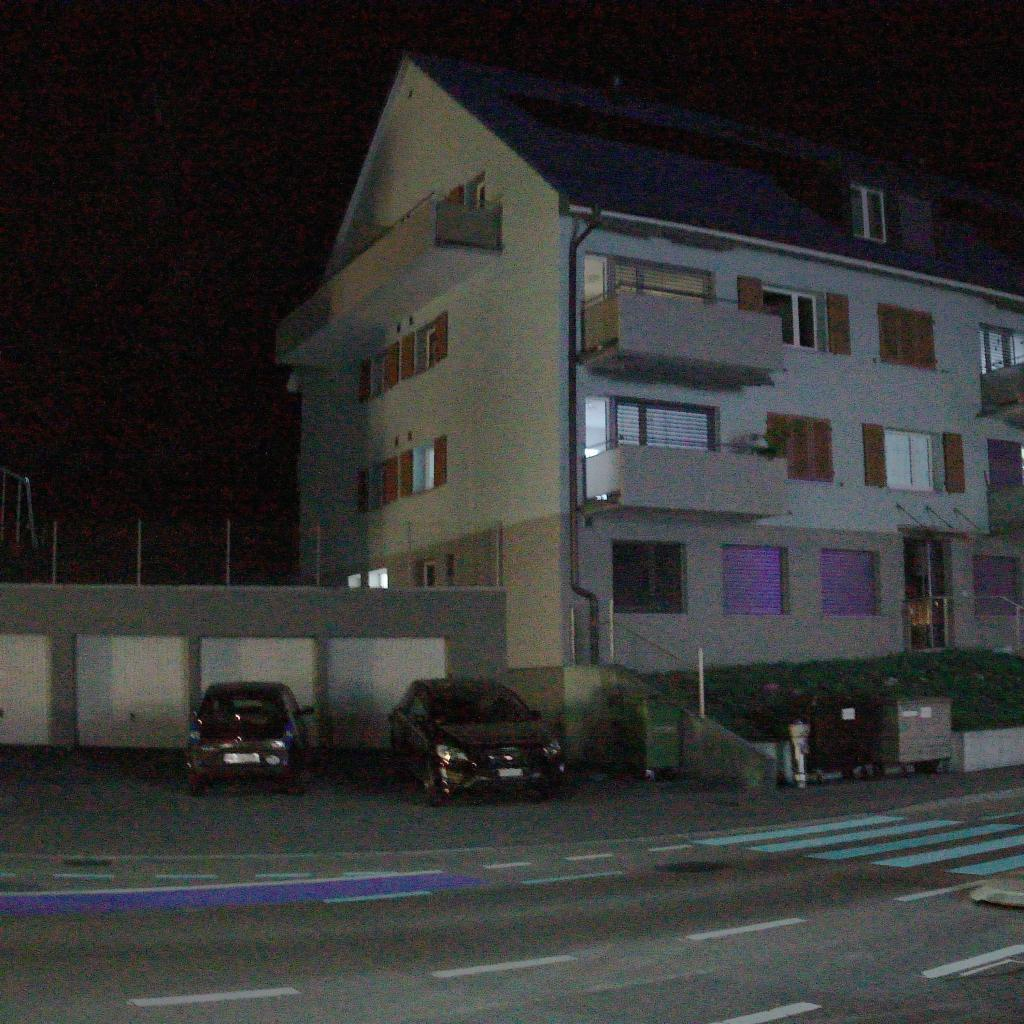balcony-fence: (0, 513, 506, 590), (274, 188, 503, 331), (583, 278, 783, 321), (584, 432, 787, 464), (980, 352, 1024, 375)
car: (389, 677, 571, 809), (184, 680, 317, 799)
facade: (0, 46, 1024, 787)
non-building-infrastructure: (0, 747, 1024, 853)
street: (0, 786, 1024, 1024)
vegetation: (636, 647, 1024, 767)
window: (613, 398, 715, 449), (613, 541, 683, 613), (903, 535, 947, 649), (608, 259, 709, 300), (722, 546, 783, 613), (877, 302, 936, 370), (762, 285, 817, 350), (785, 415, 835, 483), (822, 551, 875, 615), (885, 429, 934, 490), (972, 555, 1017, 616), (980, 325, 1024, 374), (852, 184, 887, 243), (380, 333, 415, 392), (988, 439, 1024, 489), (382, 450, 412, 504), (425, 328, 435, 369), (424, 448, 433, 489), (422, 561, 434, 587), (476, 181, 485, 207), (380, 573, 387, 588)
